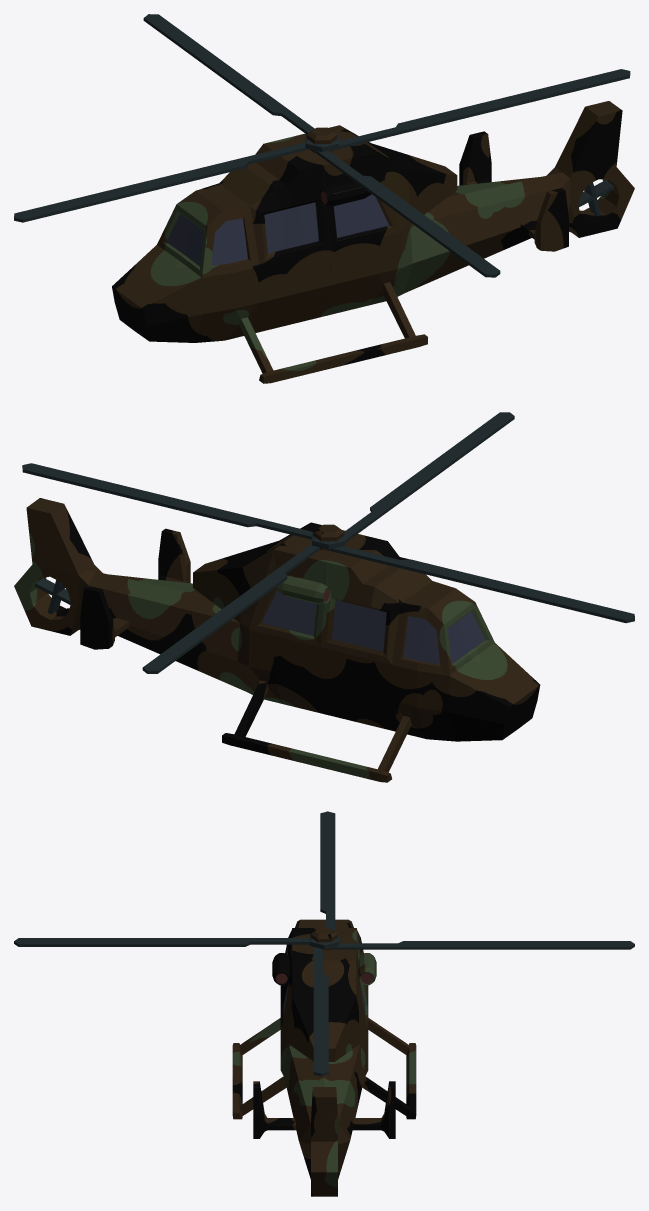
Rendered from Helicopter Low Poly Model.fbx.
3 renders of one model, top to bottom at view 1: azimuth 30°, elevation 25°; view 2: azimuth 150°, elevation 25°; view 3: azimuth 270°, elevation 25°, orthographic. The views are drawn at different scales.
Parts seen in each view (by area): view 1: Main Cabin, Blades; view 2: Main Cabin, Blades; view 3: Main Cabin, Blades.
Part boxes in pixels (x1=…): Main Cabin: x1=112, y1=101, x2=634, y2=383; Blades: x1=14, y1=14, x2=630, y2=277; Main Cabin: x1=14, y1=498, x2=540, y2=782; Blades: x1=22, y1=412, x2=634, y2=673; Main Cabin: x1=232, y1=919, x2=416, y2=1196; Blades: x1=14, y1=811, x2=634, y2=1076.
Bounding box in the file's own units: 950 × 279 × 950.
2 materials, 2 textured.
